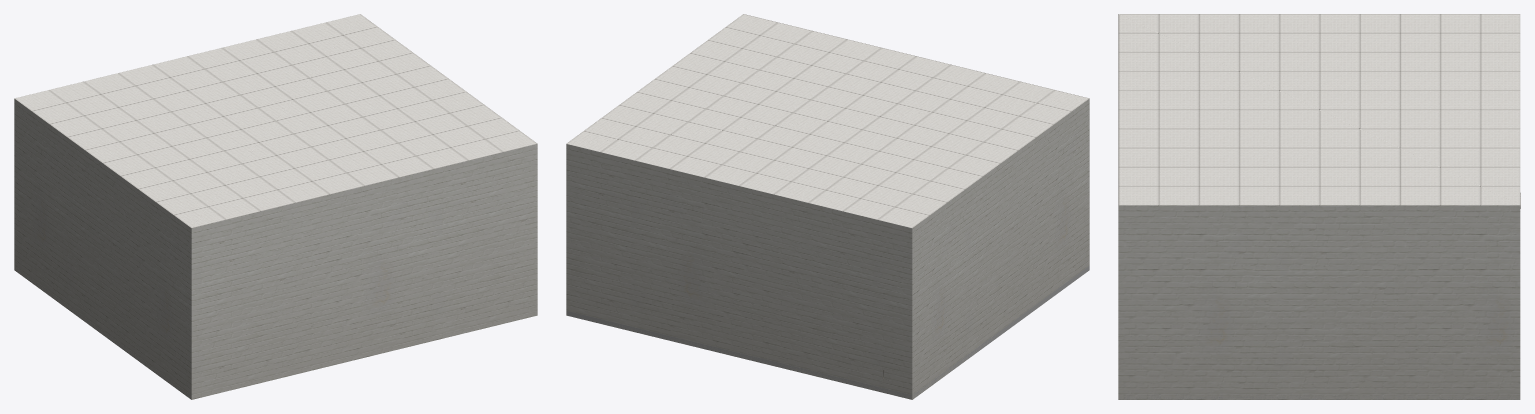
The model's file is EnvConferenceRoom01.fbx.
3 views of the same model, side by side, from view 1: azimuth 30°, elevation 25°; view 2: azimuth 150°, elevation 25°; view 3: azimuth 270°, elevation 25° (orthographic). The views are drawn at different scales.
Parts seen in each view (by area): view 1: Walls, Ceiling; view 2: Walls, Ceiling, Baseboard4, Baseboard1; view 3: Walls, Ceiling, Baseboard3.
Boxes of the visible parts, <box> form: Walls: <box>14,99,537,399</box>; Ceiling: <box>14,14,537,228</box>; Walls: <box>566,99,1089,399</box>; Ceiling: <box>566,14,1089,228</box>; Baseboard4: <box>567,311,911,399</box>; Baseboard1: <box>911,265,1089,398</box>; Walls: <box>1118,205,1520,399</box>; Ceiling: <box>1118,14,1520,205</box>; Baseboard3: <box>1118,394,1519,399</box>.
Size of the model in its own units: 512 by 243 by 454.
